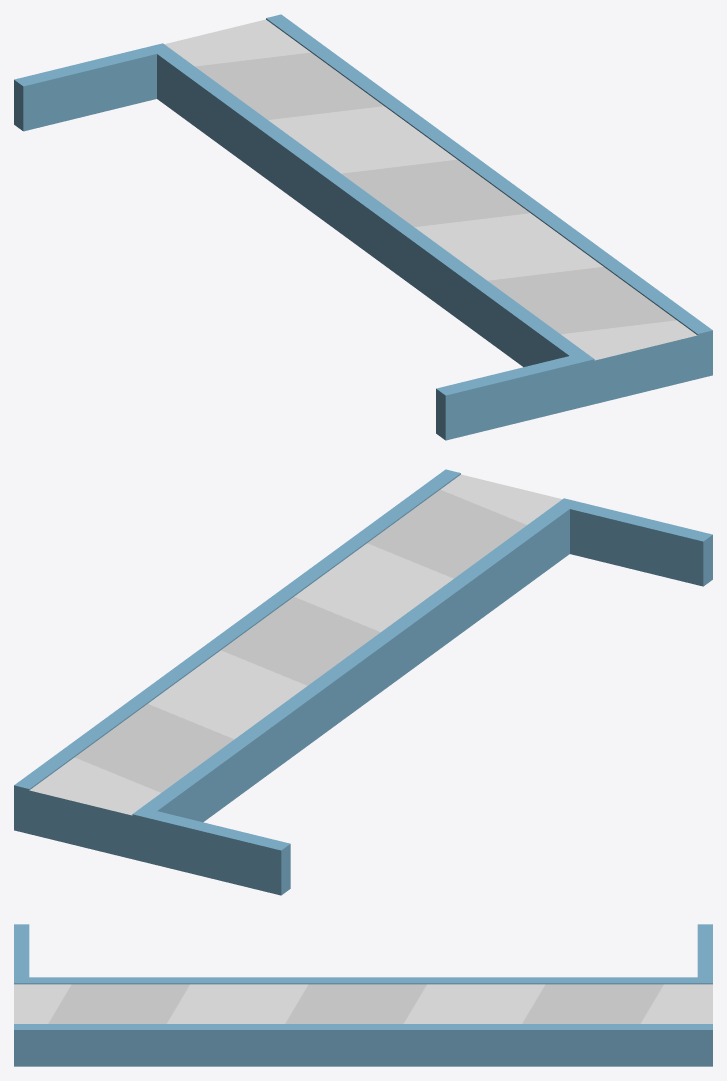
File: platform_Bridge_01.fbx
3 views of the same model, one above another, from view 1: azimuth 30°, elevation 25°; view 2: azimuth 150°, elevation 25°; view 3: azimuth 270°, elevation 25° (orthographic). The views are drawn at different scales.
Visible parts, largest first — view 1: platform_Bridge; view 2: platform_Bridge; view 3: platform_Bridge.
Boxes of the visible parts, left/top/right/bottom form: platform_Bridge: left=14, top=14, right=712, bottom=440; platform_Bridge: left=14, top=469, right=712, bottom=895; platform_Bridge: left=14, top=924, right=712, bottom=1066.
Size of the model in its own units: 6.41 by 1.03 by 17.92.
